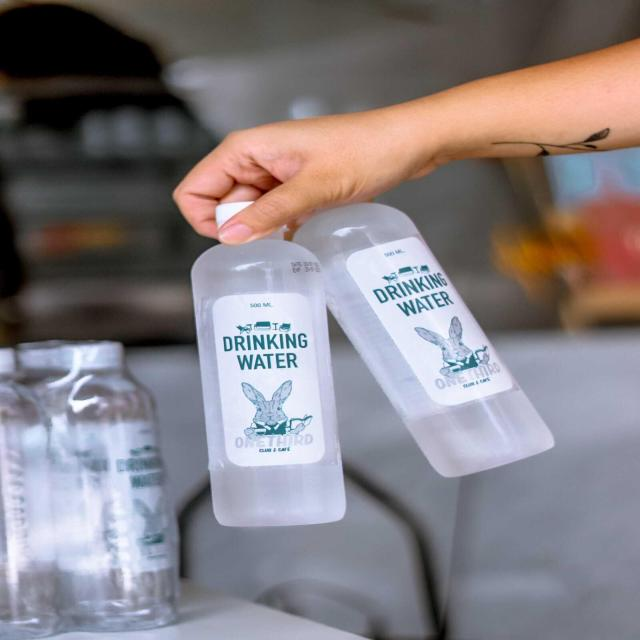bottle: (269, 172, 569, 489), (182, 195, 361, 537)
